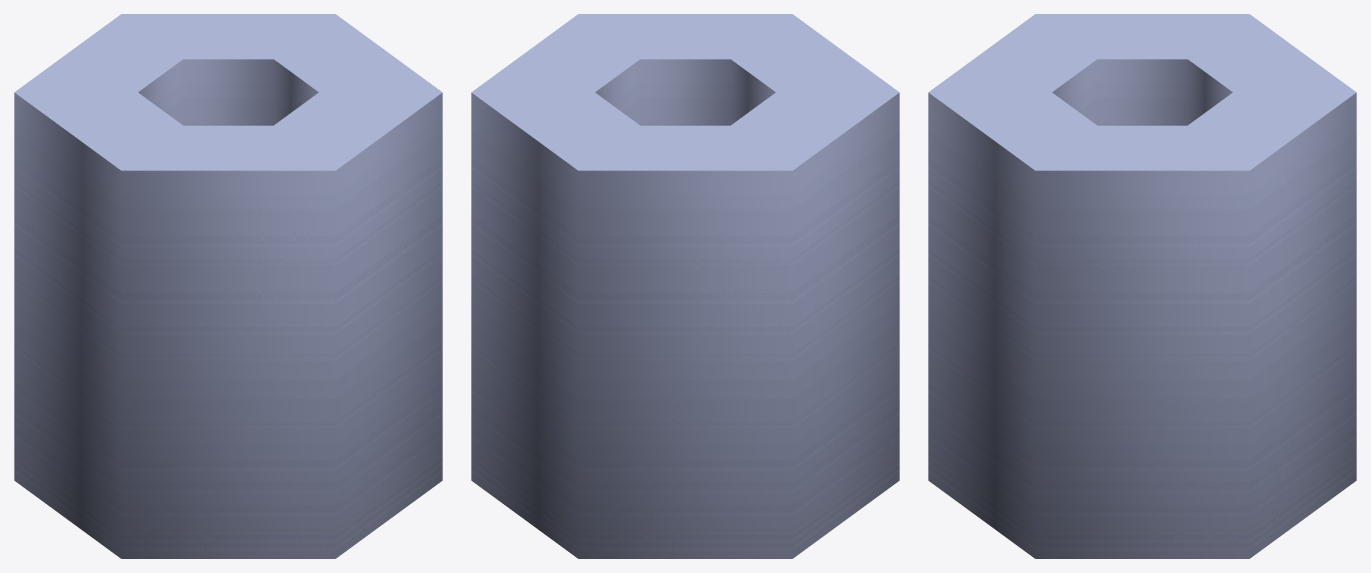
Rendered from shape-hollow-hexagon.glb.
3 renders of one model, left to right at view 1: azimuth 30°, elevation 25°; view 2: azimuth 150°, elevation 25°; view 3: azimuth 270°, elevation 25°, orthographic.
Parts seen in each view (by area): view 1: shape-hollow-hexagon; view 2: shape-hollow-hexagon; view 3: shape-hollow-hexagon.
Boxes of the visible parts, <box> form: shape-hollow-hexagon: <box>14,14,442,558</box>; shape-hollow-hexagon: <box>471,14,899,558</box>; shape-hollow-hexagon: <box>928,14,1356,558</box>.
Size of the model in its own units: 0.866 by 1 by 1.
Materials: 1 (1 with a texture image).
